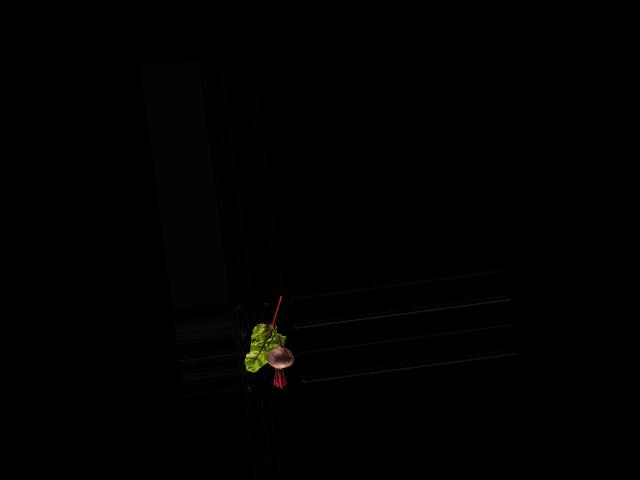beet: (262, 321, 297, 391)
